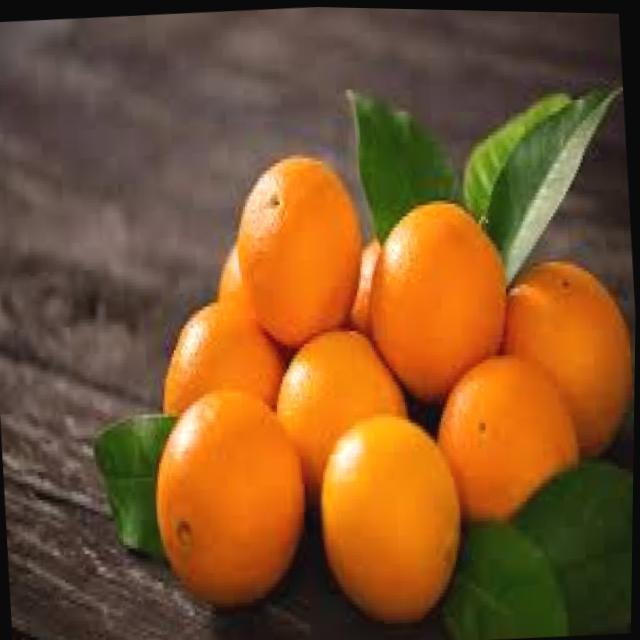orange: (148, 382, 319, 613), (314, 403, 471, 626), (363, 192, 516, 402), (501, 252, 637, 458), (231, 147, 371, 347), (431, 347, 586, 526), (271, 320, 415, 501), (157, 291, 289, 419)
